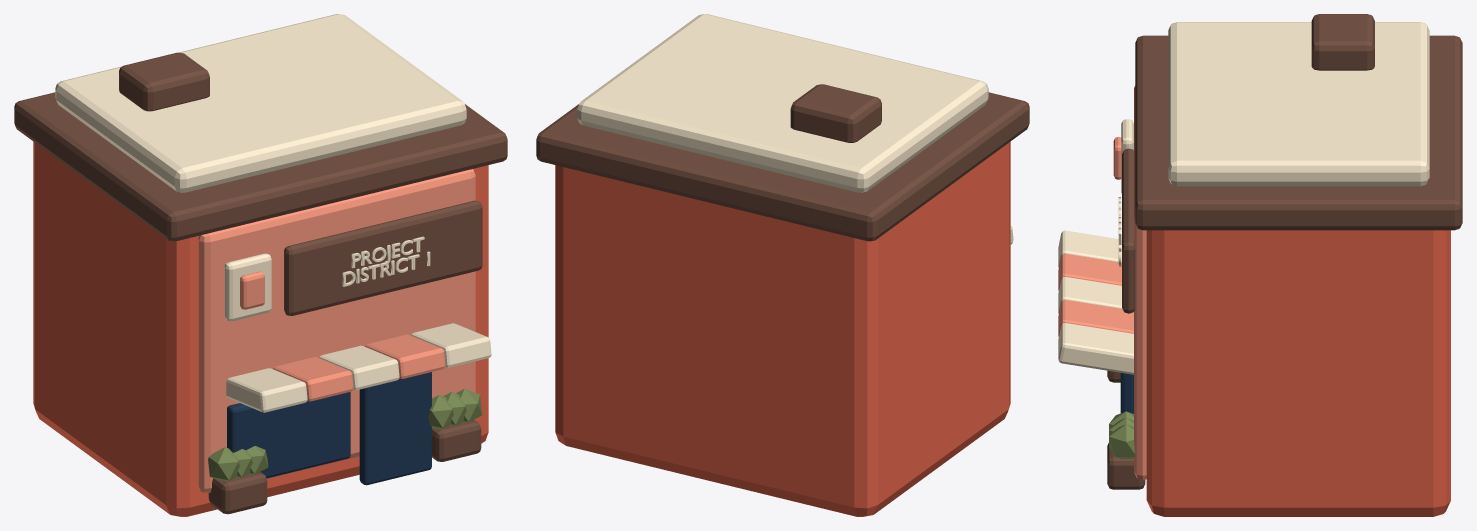
File: project-district-one.glb
The picture shows the model from 3 angles, left to right: view 1: azimuth 30°, elevation 25°; view 2: azimuth 150°, elevation 25°; view 3: azimuth 270°, elevation 25°; orthographic projection. The views are drawn at different scales.
Visible parts, largest first — view 1: DistrictOneBody, DistrictOneRoof, DistrictOneInset, DistrictOneCornice, DistrictOneSign, DistrictOneWindow, DistrictOneDoor, DistrictOneRoofCap, DistrictOneAwning_0, DistrictOneAwning_3, DistrictOneAwning_2, DistrictOneAwning_4 (+8 smaller); view 2: DistrictOneBody, DistrictOneRoof, DistrictOneCornice, DistrictOneRoofCap; view 3: DistrictOneBody, DistrictOneRoof, DistrictOneCornice, DistrictOneRoofCap, DistrictOneInset, DistrictOneAwning_4, DistrictOneSign, DistrictOneAwning_3, DistrictOneAwning_2, DistrictOneAwning_1, DistrictOneAwning_0, DistrictOnePlanterRight_Pot (+2 smaller).
Part boxes in pixels (left/top/right/bottom): DistrictOneBody: left=33, top=141, right=488, bottom=516; DistrictOneRoof: left=55, top=14, right=466, bottom=192; DistrictOneInset: left=198, top=169, right=475, bottom=492; DistrictOneCornice: left=14, top=92, right=507, bottom=241; DistrictOneSign: left=284, top=200, right=482, bottom=315; DistrictOneWindow: left=227, top=392, right=350, bottom=478; DistrictOneDoor: left=359, top=372, right=431, bottom=485; DistrictOneRoofCap: left=119, top=52, right=209, bottom=111; DistrictOneAwning_0: left=226, top=368, right=307, bottom=412; DistrictOneAwning_3: left=365, top=334, right=445, bottom=378; DistrictOneAwning_2: left=319, top=345, right=399, bottom=390; DistrictOneAwning_4: left=411, top=323, right=491, bottom=367; DistrictOneBody: left=555, top=141, right=1010, bottom=516; DistrictOneRoof: left=577, top=14, right=988, bottom=192; DistrictOneCornice: left=536, top=92, right=1029, bottom=241; DistrictOneRoofCap: left=790, top=84, right=881, bottom=142; DistrictOneBody: left=1146, top=230, right=1450, bottom=516; DistrictOneRoof: left=1168, top=22, right=1429, bottom=186; DistrictOneCornice: left=1135, top=35, right=1462, bottom=230; DistrictOneRoofCap: left=1311, top=14, right=1374, bottom=70; DistrictOneInset: left=1134, top=86, right=1146, bottom=480; DistrictOneAwning_4: left=1058, top=323, right=1133, bottom=374; DistrictOneSign: left=1122, top=148, right=1135, bottom=313; DistrictOneAwning_3: left=1058, top=300, right=1133, bottom=336; DistrictOneAwning_2: left=1058, top=276, right=1122, bottom=313; DistrictOneAwning_1: left=1058, top=253, right=1121, bottom=290; DistrictOneAwning_0: left=1058, top=230, right=1121, bottom=267; DistrictOnePlanterRight_Pot: left=1107, top=443, right=1145, bottom=489.
Bounding box in the file's own units: 3.18 × 3.29 × 3.19.
